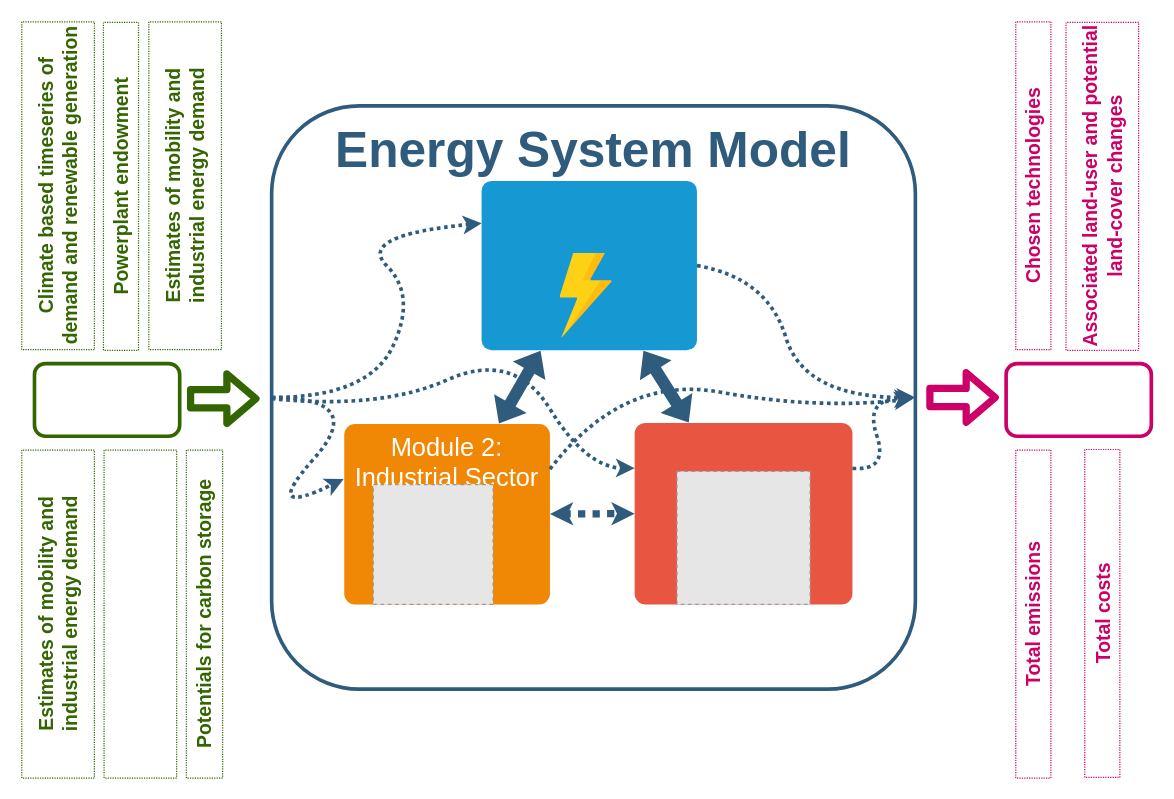
Image size: 1174x799. Some labels were removed from this diagram. Grey dashed boxes stand in for pictures. The shapes that lost their labels are listed below. From the top down, each one's box as (x1, y1, x2, y2) in pixels, then its label:
(481, 180, 696, 350): Module 1: Electrical Sector
(32, 361, 181, 437): Input Data
(1004, 361, 1153, 437): Output Data
(634, 422, 852, 604): Module 3: Transport Sector
(103, 449, 177, 778): Cost of technologies, including DAC and carbon storage
